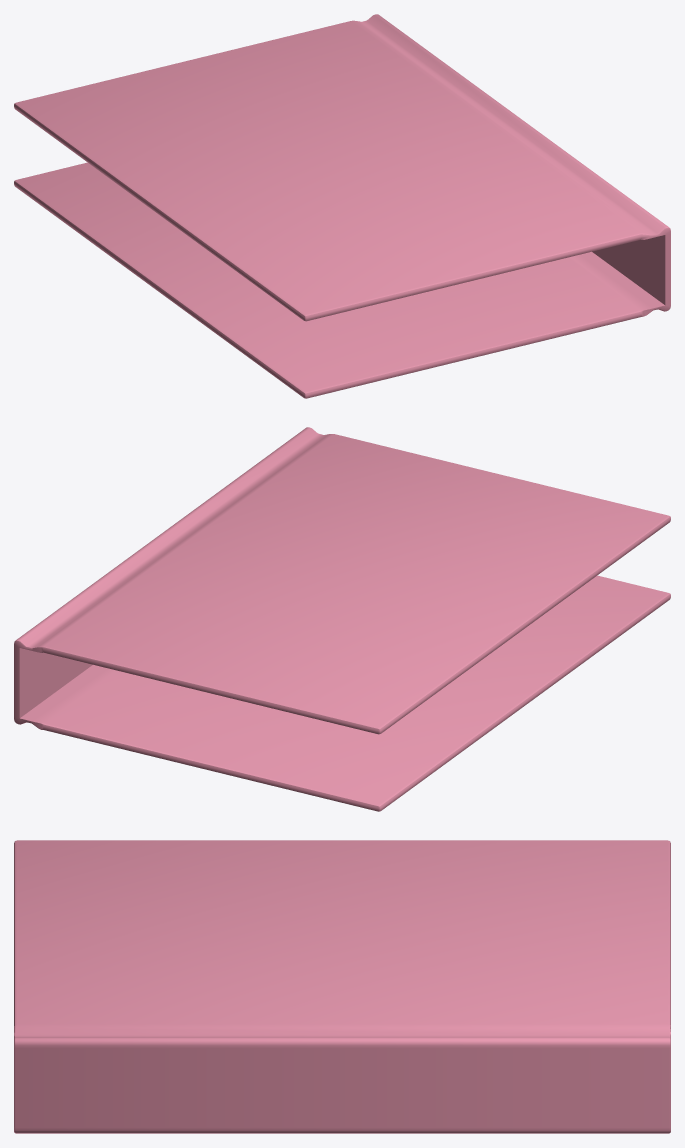
Rendered from book.glb.
3 renders of one model, top to bottom at view 1: azimuth 30°, elevation 25°; view 2: azimuth 150°, elevation 25°; view 3: azimuth 270°, elevation 25°, orthographic. The views are drawn at different scales.
Parts seen in each view (by area): view 1: cover; view 2: cover; view 3: cover.
Part boxes in pixels (left/top/right/bottom): cover: left=14, top=14, right=670, bottom=398; cover: left=14, top=427, right=670, bottom=811; cover: left=14, top=840, right=670, bottom=1133.
Size of the model in its own units: 0.2212 by 0.0485 by 0.3051.
